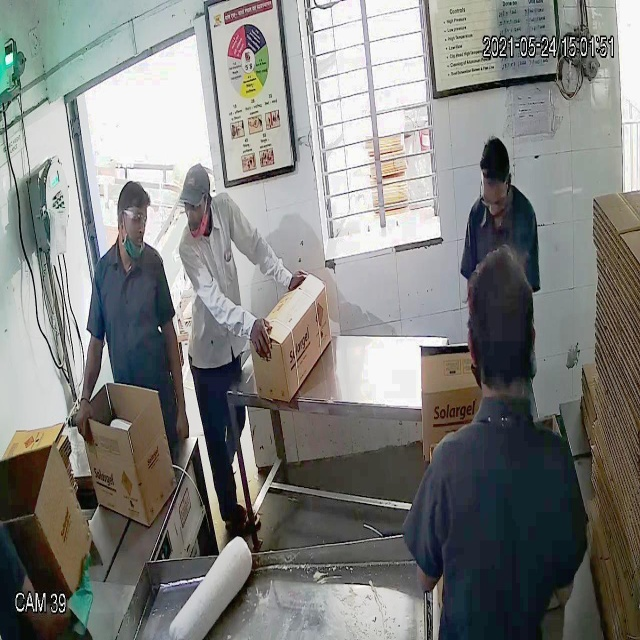Gafas: (476, 181, 514, 216), (114, 204, 149, 234)
Sin_gafas: (180, 196, 208, 220)
